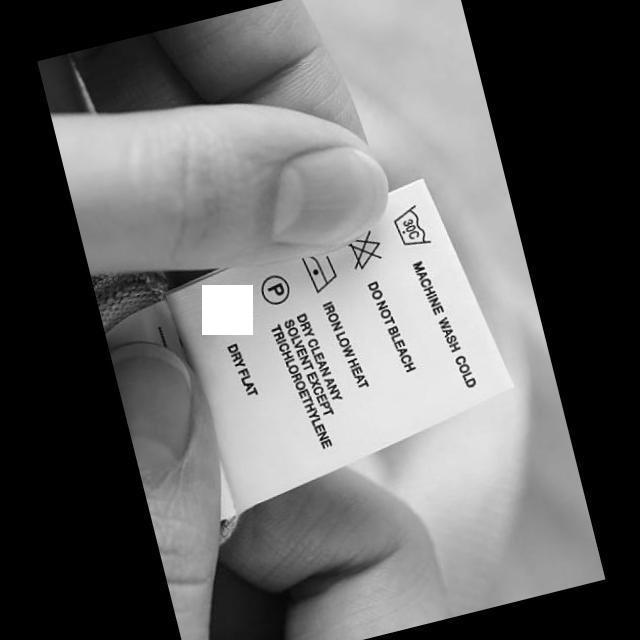30C: (386, 200, 434, 252)
DN_bleach: (338, 222, 388, 274)
iron_low: (296, 242, 342, 298)
normal_dry_clean_solvents: (253, 268, 294, 310)
